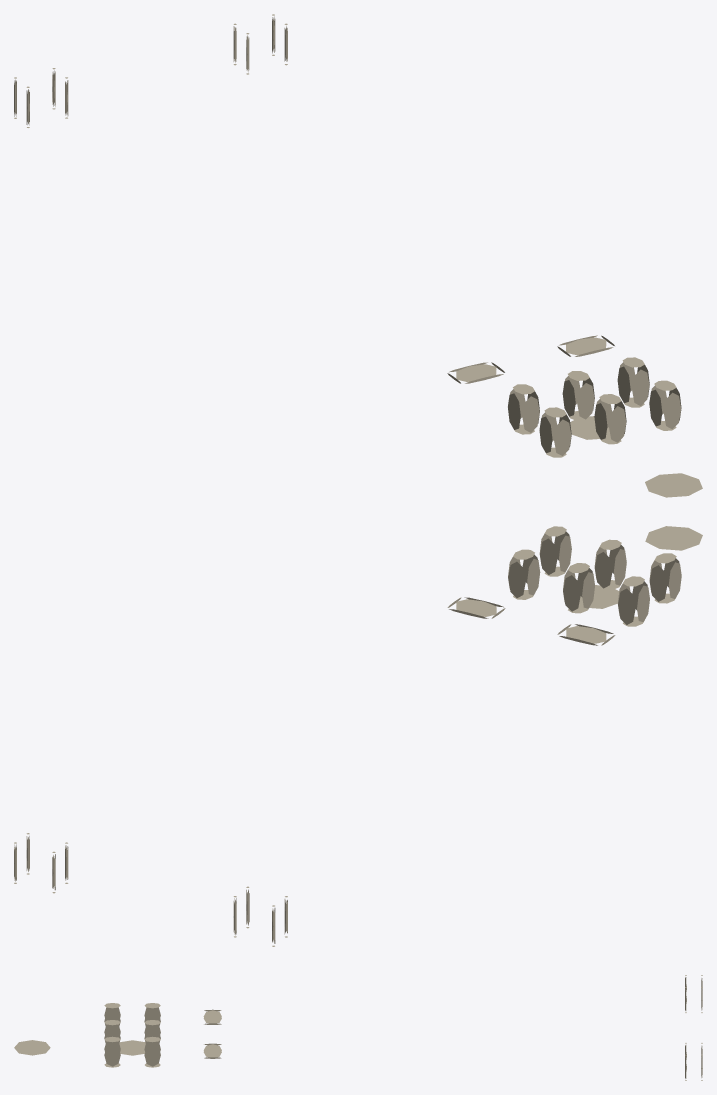
Rendered from ENV_Hills_PBR.glb.
The picture shows the model from 3 angles, top to bottom: view 1: azimuth 30°, elevation 25°; view 2: azimuth 150°, elevation 25°; view 3: azimuth 270°, elevation 25°; orthographic projection. The views are drawn at different scales.
Parts seen in each view (by area): view 1: ENV_Hills_Cabinet_0_0, ENV_Hills_Cabinet_2_1, ENV_Hills_Cabinet_1_0, ENV_Hills_Cabinet_0_1, ENV_Hills_Cabinet_2_0, ENV_Hills_Cabinet_1_1, ENV_Hills_Path, ENV_Hills_Desk_0, ENV_Hills_Desk_1; view 2: ENV_Hills_Cabinet_2_0, ENV_Hills_Cabinet_0_0, ENV_Hills_Cabinet_0_1, ENV_Hills_Cabinet_1_1, ENV_Hills_Cabinet_2_1, ENV_Hills_Cabinet_1_0, ENV_Hills_Path, ENV_Hills_Desk_0, ENV_Hills_Desk_1; view 3: ENV_Hills_Cabinet_2_0, ENV_Hills_Cabinet_2_1, ENV_Hills_Path, ENV_Hills_Ground, ENV_Hills_Cabinet_0_1, ENV_Hills_Cabinet_0_0, ENV_Hills_Cabinet_1_1, ENV_Hills_Cabinet_1_0, ENV_Hills_Desk_1, ENV_Hills_Desk_0.
Part boxes in pixels (x1,y1,x2,y2): ENV_Hills_Cabinet_0_0: [539, 407, 571, 457]; ENV_Hills_Cabinet_2_1: [617, 357, 649, 407]; ENV_Hills_Cabinet_1_0: [594, 394, 626, 444]; ENV_Hills_Cabinet_0_1: [508, 384, 539, 434]; ENV_Hills_Cabinet_2_0: [649, 380, 681, 430]; ENV_Hills_Cabinet_1_1: [562, 371, 594, 420]; ENV_Hills_Path: [645, 473, 702, 497]; ENV_Hills_Desk_0: [447, 362, 504, 383]; ENV_Hills_Desk_1: [557, 335, 614, 356]; ENV_Hills_Cabinet_2_0: [539, 526, 571, 576]; ENV_Hills_Cabinet_0_0: [649, 553, 681, 603]; ENV_Hills_Cabinet_0_1: [618, 576, 649, 626]; ENV_Hills_Cabinet_1_1: [563, 563, 594, 613]; ENV_Hills_Cabinet_2_1: [508, 549, 540, 599]; ENV_Hills_Cabinet_1_0: [594, 539, 626, 589]; ENV_Hills_Path: [645, 526, 702, 550]; ENV_Hills_Desk_0: [557, 624, 615, 645]; ENV_Hills_Desk_1: [447, 597, 505, 618]; ENV_Hills_Cabinet_2_0: [104, 1036, 120, 1067]; ENV_Hills_Cabinet_2_1: [144, 1036, 160, 1067]; ENV_Hills_Path: [14, 1040, 50, 1055]; ENV_Hills_Ground: [119, 1040, 145, 1055]; ENV_Hills_Cabinet_0_1: [144, 1003, 160, 1026]; ENV_Hills_Cabinet_0_0: [104, 1003, 120, 1025]; ENV_Hills_Cabinet_1_1: [144, 1020, 160, 1043]; ENV_Hills_Cabinet_1_0: [104, 1020, 120, 1042]; ENV_Hills_Desk_1: [203, 1043, 221, 1058]; ENV_Hills_Desk_0: [203, 1009, 221, 1024].
Size of the model in its own units: 9.5 by 1.8 by 34.37.
